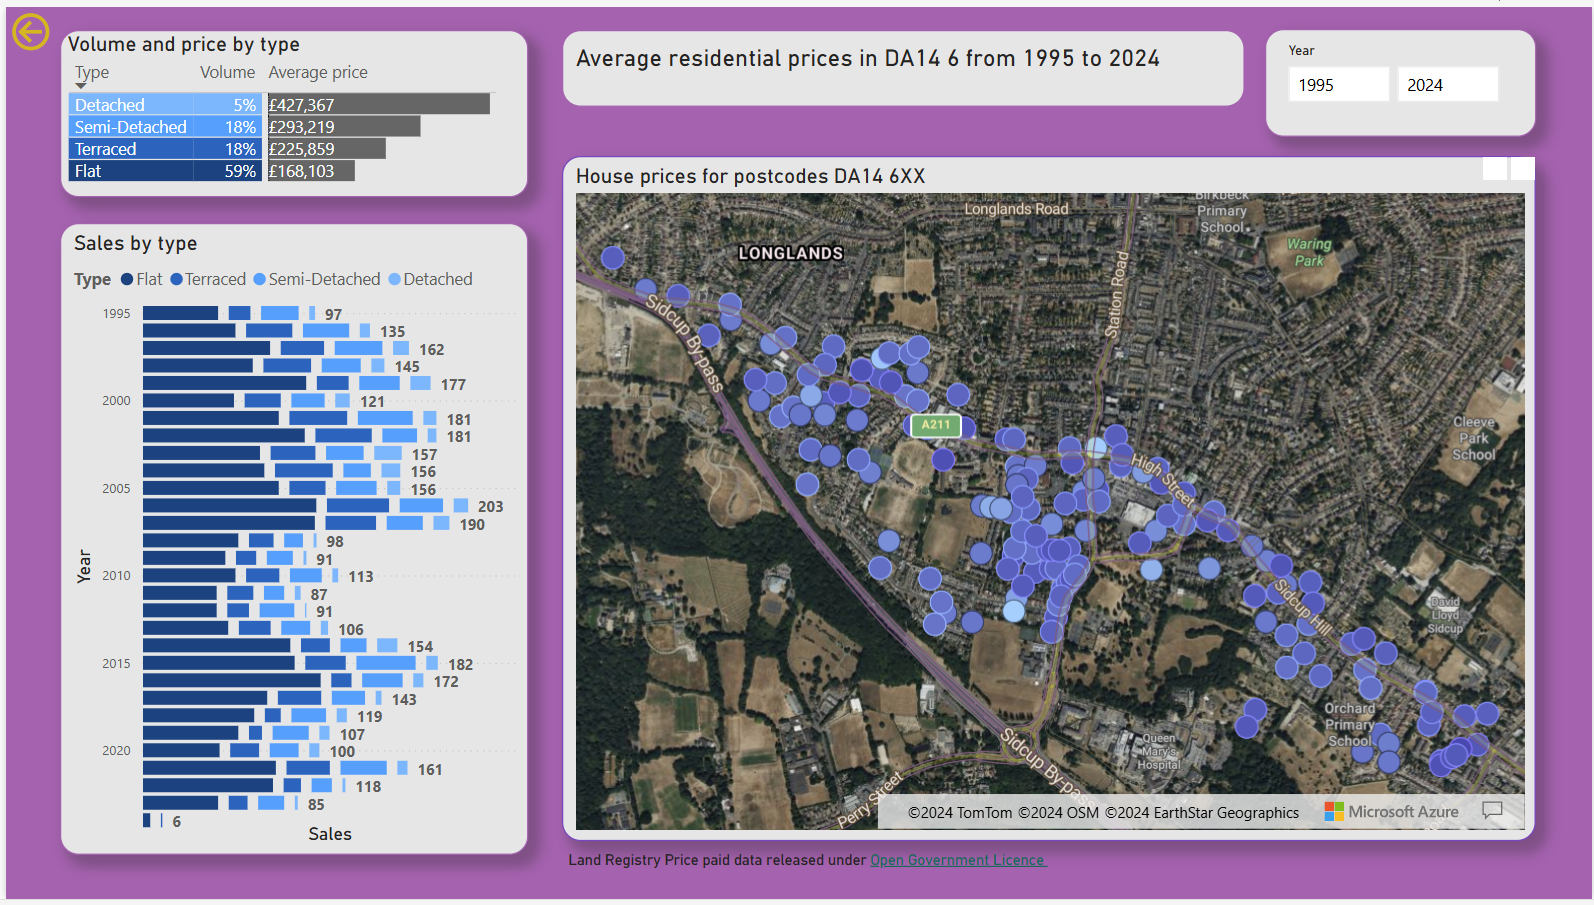

This screenshot's page, from the dashboard's own definition file:
{"tool":"powerbi","page":{"name":"postcode drillthrough","canvas":[1280,720],"ordinal":1},"visuals":[{"type":"barChart","title":"Sales by type","fields":{"Category":["ppd_data.deed_date.Variation.Date Hierarchy.Year"],"Y":["CountNonNull(ppd_data.property_type)"],"Series":["Property Types.Type"]},"box":[43.6,174.5,378.2,510.1],"z":0},{"type":"tableEx","title":"Volume and price by type","fields":{"Values":["Property Types.Type","ppd_data.property_type","Measures_Table.average price"]},"box":[43.6,18.4,378.2,134.8],"z":1000},{"type":"slicer","fields":{"Values":["ppd_data.deed_date.Variation.Date Hierarchy.Year"]},"box":[1016,18,219,87],"z":2000},{"type":"textbox","box":[449,18.4,550.8,62.1],"z":3000},{"type":"azureMap","fields":{"Category":["ppd_data.postcode"]},"box":[449,120,786,553],"z":4000},{"type":"actionButton","box":[0,0,100,40],"z":5000},{"type":"textbox","box":[449,673,594,38],"z":6000}]}

Visuals, with their boxes in screenshot pixels (x1, y1, x2, y2), scaled from the page's 1280x720 canvas onto the 1594x905 screenshot:
"Sales by type" barChart: 54:219:525:861
"Volume and price by type" tableEx: 54:23:525:193
slicer - ppd_data.deed_date.Variation.Date Hierarchy.Year: 1265:23:1538:132
textbox: 559:23:1245:101
azureMap - ppd_data.postcode: 559:151:1538:846
actionButton: 0:0:125:50
textbox: 559:846:1299:894
